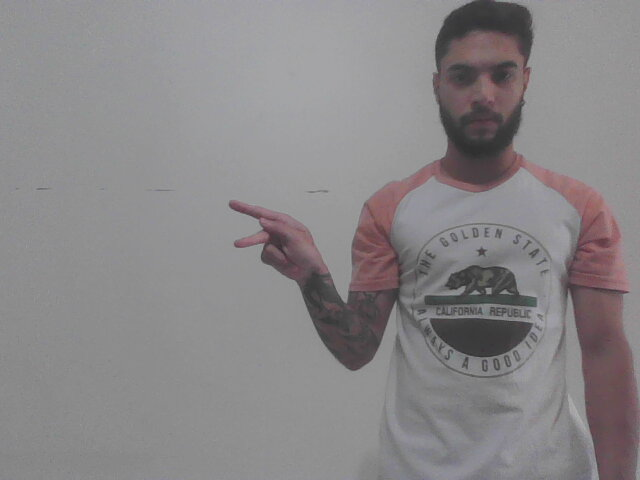p: (222, 189, 327, 288)
